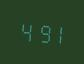four: (18, 18, 32, 43)
nine: (34, 19, 48, 44)
one: (49, 20, 63, 45)
